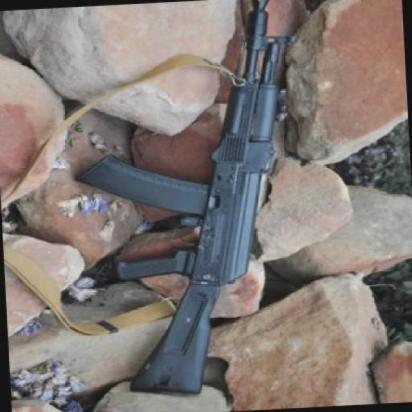Gun: (75, 0, 285, 397)
